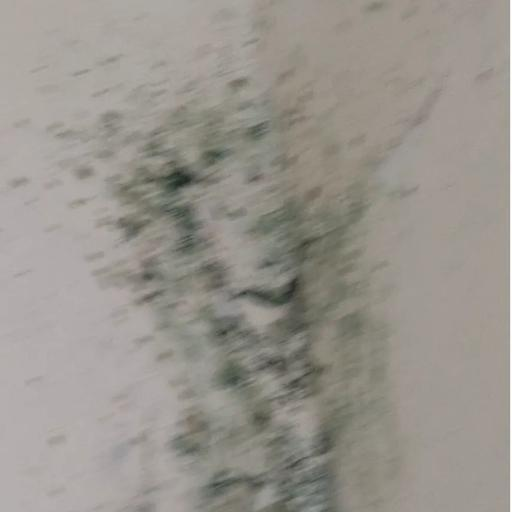algae: (79, 55, 461, 512)
